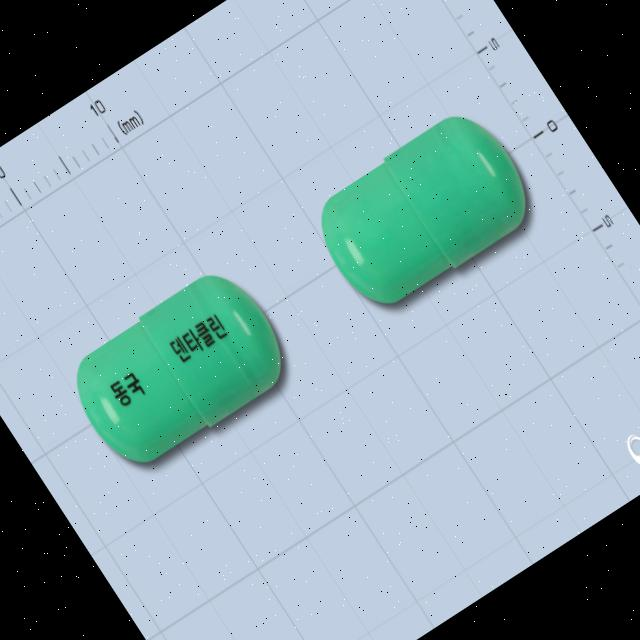Dentacline Cap: (54, 254, 302, 482)
